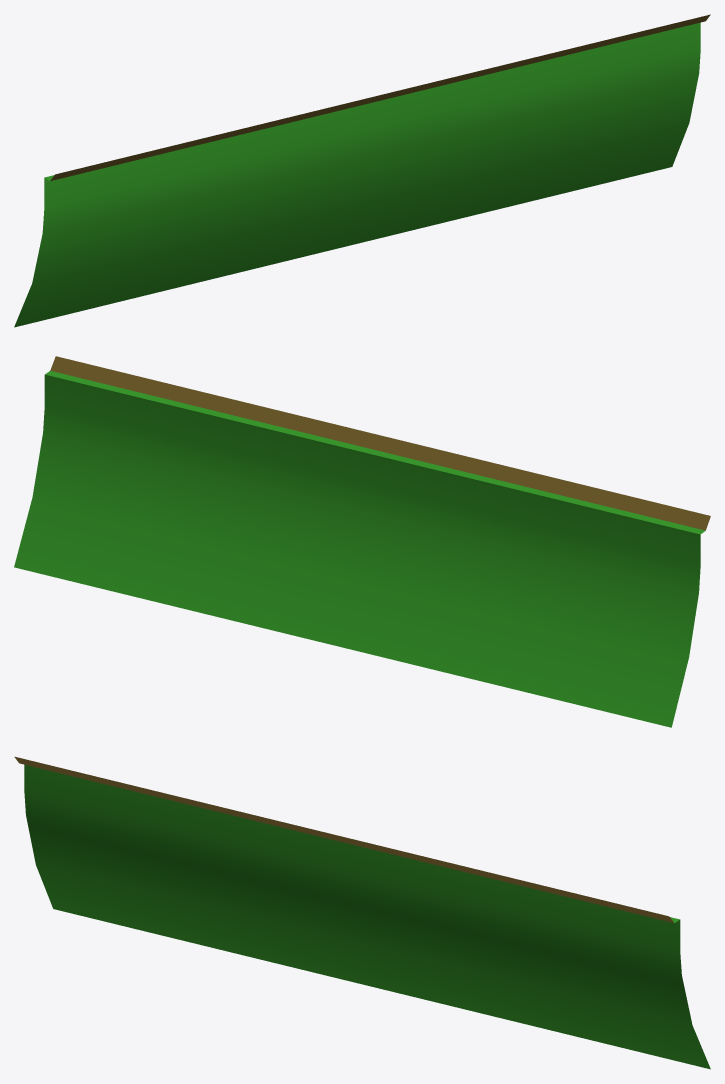
File: ModuleSC_Lfloor_002.FBX
3 views of the same model, one above another, from view 1: azimuth 30°, elevation 25°; view 2: azimuth 150°, elevation 25°; view 3: azimuth 330°, elevation 25° (orthographic).
Visible parts, largest first — view 1: ModuleSC_Lfloor_a2; view 2: ModuleSC_Lfloor_a2; view 3: ModuleSC_Lfloor_a2.
Boxes of the visible parts, x1=… form: ModuleSC_Lfloor_a2: x1=14, y1=14, x2=710, y2=327; ModuleSC_Lfloor_a2: x1=14, y1=356, x2=710, y2=727; ModuleSC_Lfloor_a2: x1=14, y1=756, x2=710, y2=1069.
Bounding box in the file's own units: 39.52 × 10.46 × 4.18.
